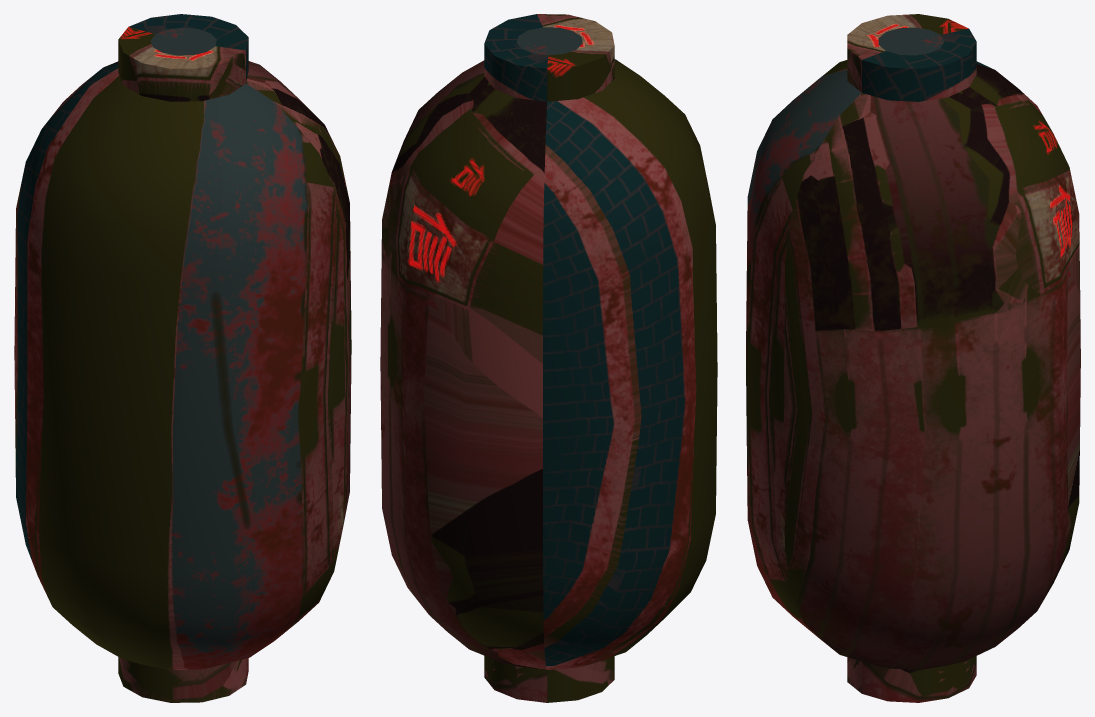
File: LAMPADA_LOD.fbx
3 views of the same model, side by side, from view 1: azimuth 30°, elevation 25°; view 2: azimuth 150°, elevation 25°; view 3: azimuth 270°, elevation 25° (orthographic).
Visible parts, largest first — view 1: Lampada_LOD0; view 2: Lampada_LOD0; view 3: Lampada_LOD0.
Part boxes in pixels (x1,y1,x2,y2): Lampada_LOD0: (14, 14, 351, 702); Lampada_LOD0: (380, 14, 717, 702); Lampada_LOD0: (746, 14, 1080, 702).
Size of what is drawn, in the model's own units: 43.59 by 90.37 by 43.27.
